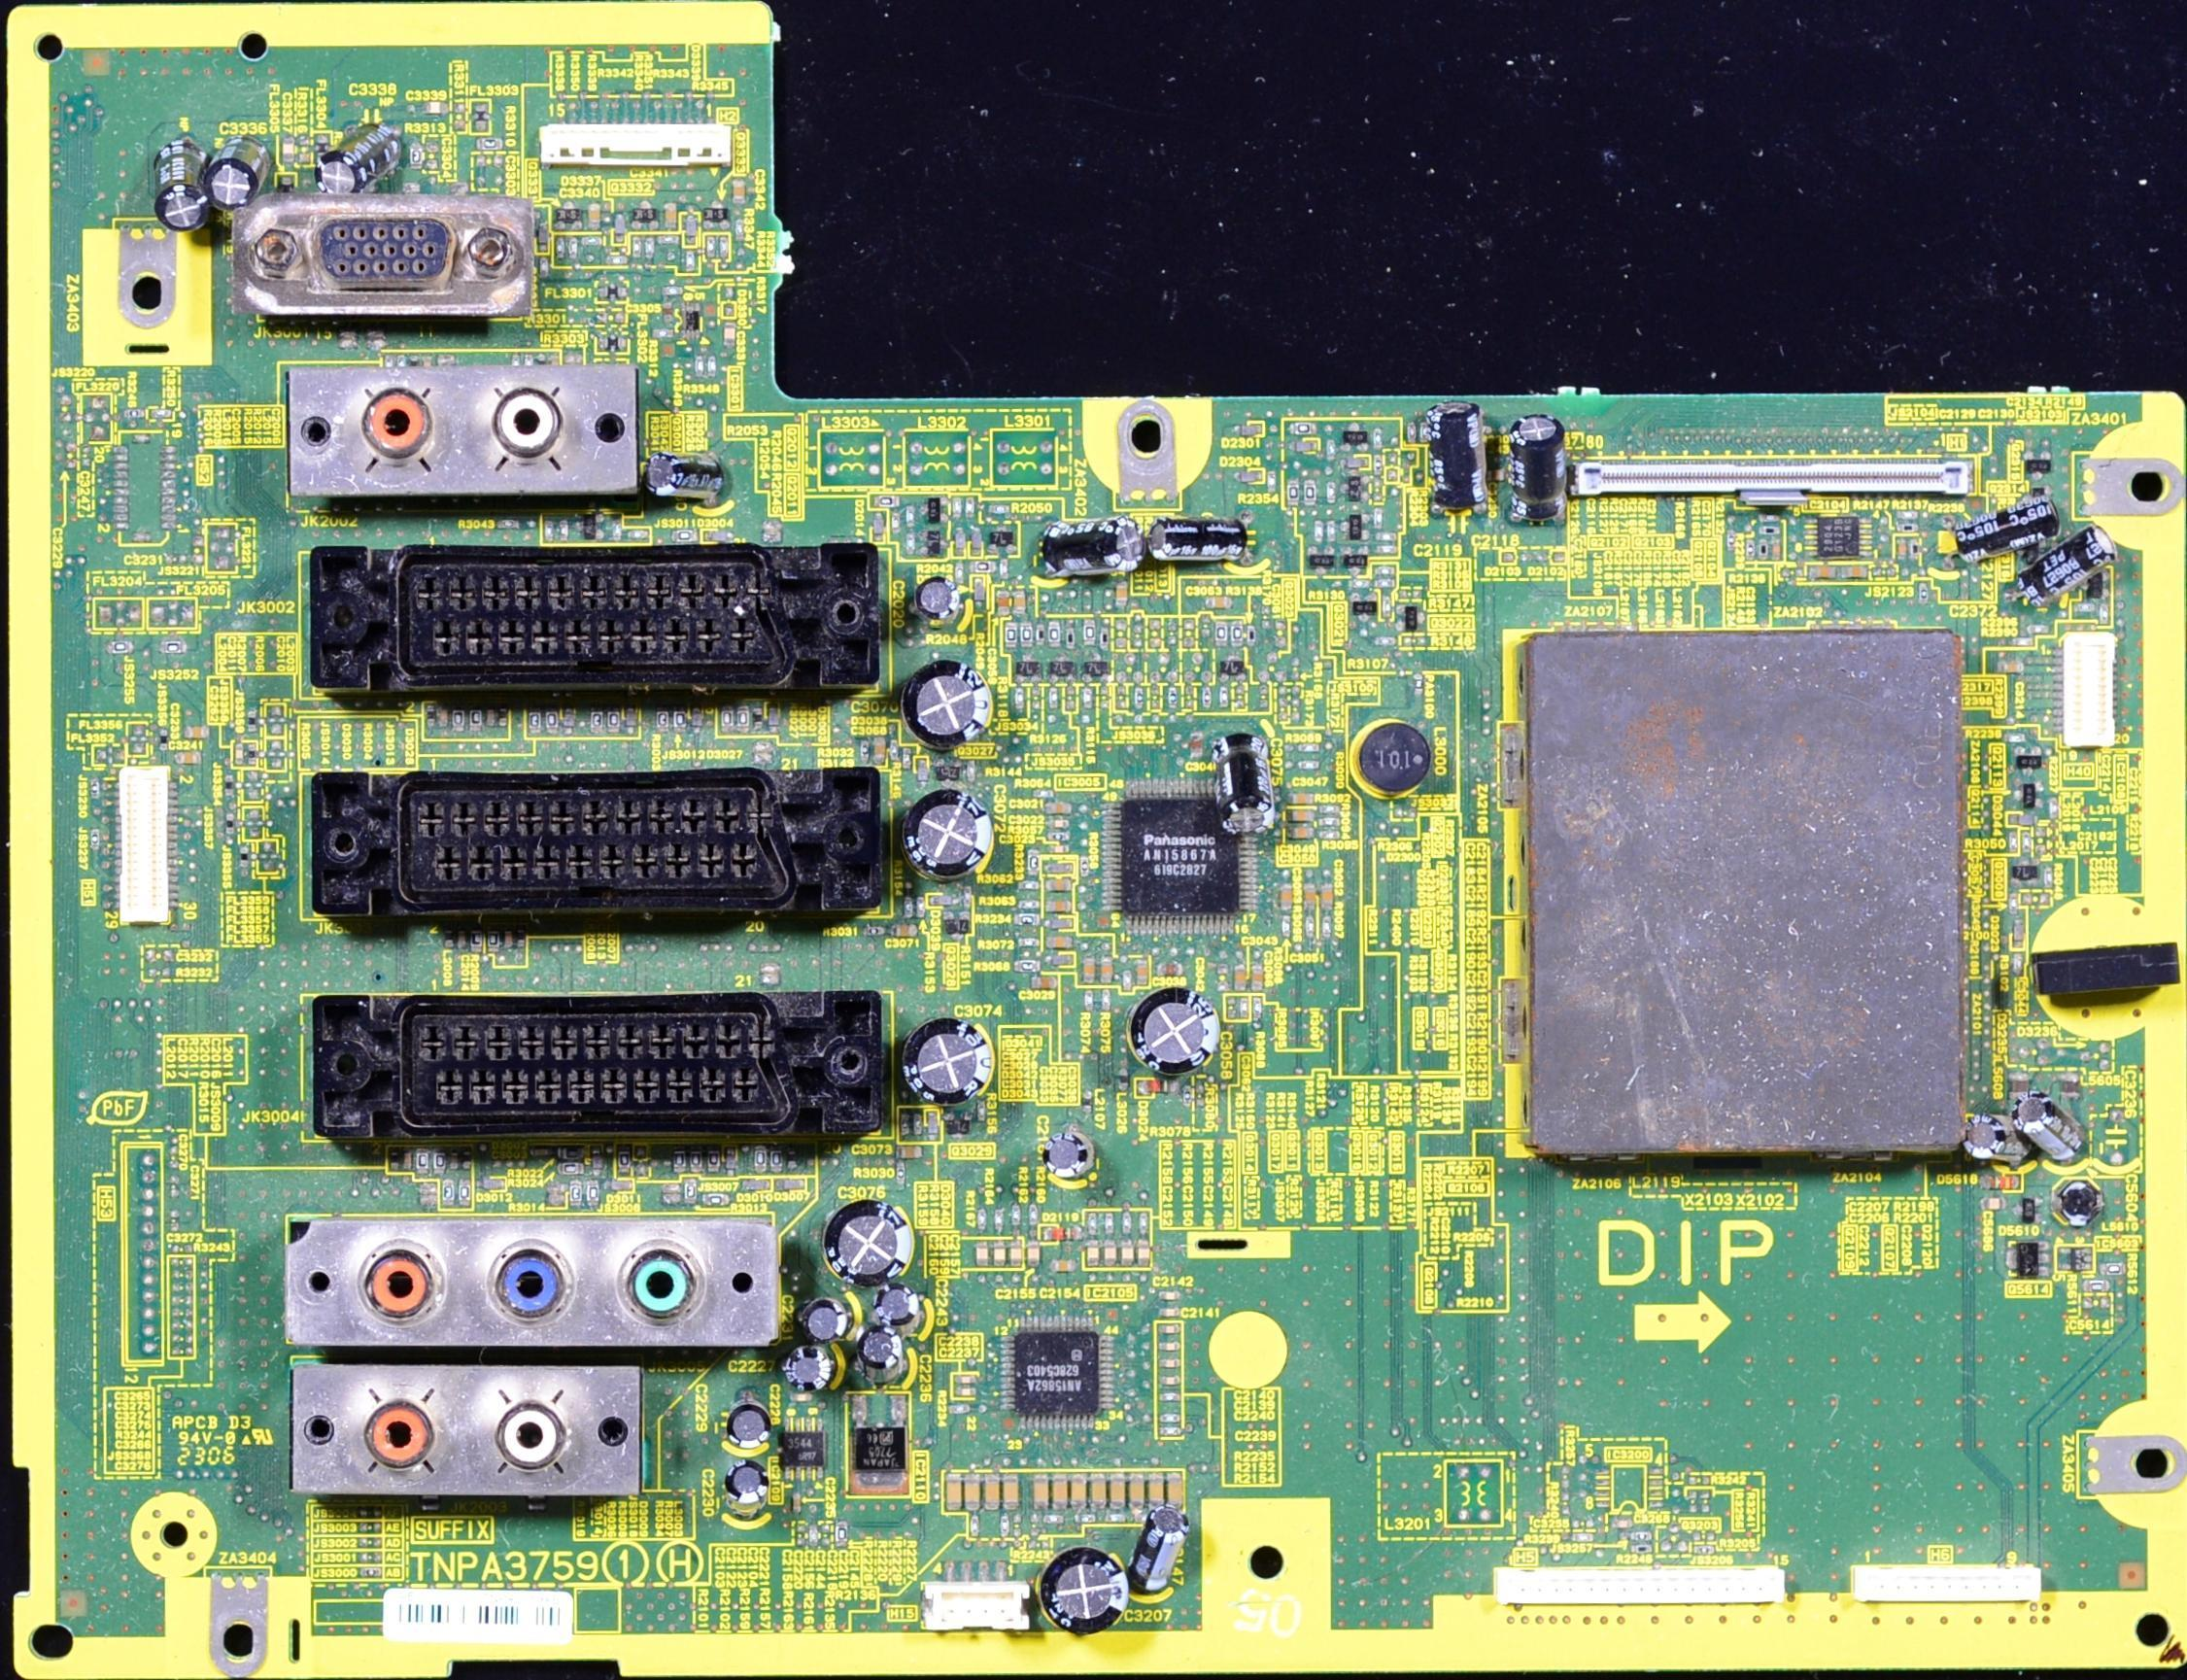Capacitor: (1035, 1537, 1132, 1638), (908, 1027, 999, 1130), (816, 1197, 914, 1279), (1512, 422, 1587, 526), (914, 786, 983, 896), (1418, 414, 1491, 513), (2021, 527, 2110, 608), (1951, 484, 2052, 557), (1213, 727, 1280, 831), (1153, 507, 1255, 574), (1035, 515, 1145, 577), (639, 447, 736, 506), (151, 142, 216, 225), (921, 681, 996, 754), (2013, 1092, 2092, 1157), (1134, 1505, 1189, 1599), (1965, 1108, 2032, 1167), (325, 128, 383, 194), (856, 1320, 908, 1376), (210, 135, 255, 198), (721, 1398, 770, 1451), (1047, 1131, 1100, 1180), (788, 1342, 835, 1393), (717, 1459, 772, 1501), (800, 1298, 846, 1343), (871, 1285, 915, 1320), (863, 1410, 887, 1445), (1106, 1477, 1132, 1509), (1166, 1474, 1186, 1512), (1275, 883, 1301, 912), (964, 1476, 982, 1512), (1127, 1474, 1146, 1509), (1004, 1472, 1021, 1511), (1033, 1474, 1051, 1513), (1806, 563, 1842, 582), (1288, 789, 1318, 809), (1027, 974, 1063, 992), (983, 1478, 1002, 1511), (1146, 1476, 1167, 1506), (1088, 1479, 1110, 1508), (1317, 877, 1333, 915), (1301, 881, 1319, 914), (1133, 957, 1152, 987), (974, 1239, 992, 1271), (1285, 808, 1320, 825), (1981, 1195, 2008, 1214), (1893, 535, 1911, 564), (1023, 1240, 1041, 1271), (1111, 581, 1129, 611), (1207, 594, 1235, 611), (1079, 955, 1097, 982), (1053, 1481, 1074, 1504), (1246, 968, 1265, 991), (899, 1145, 930, 1161), (947, 1478, 961, 1511), (1047, 876, 1075, 895), (992, 1240, 1008, 1269), (1086, 1242, 1102, 1271), (1291, 825, 1316, 841), (1073, 1476, 1087, 1505), (1843, 565, 1869, 580), (994, 586, 1011, 613), (1232, 963, 1246, 991), (1105, 1241, 1118, 1268), (1012, 586, 1026, 614), (1046, 901, 1074, 914), (1009, 1240, 1022, 1267), (1045, 935, 1076, 948), (1100, 957, 1113, 985), (1136, 1242, 1151, 1264), (1121, 1244, 1134, 1267)
Connector: (106, 757, 182, 920), (912, 1581, 1031, 1636)
IC: (1100, 782, 1254, 937), (996, 1320, 1112, 1429), (851, 1400, 906, 1481), (1799, 511, 1876, 562), (775, 1416, 826, 1483), (2055, 1244, 2095, 1276)
Resistor: (992, 1207, 1008, 1240), (413, 1146, 429, 1177), (1304, 478, 1318, 508), (434, 1148, 448, 1179), (559, 1160, 587, 1176), (1009, 1202, 1025, 1229), (568, 1181, 585, 1205), (835, 1521, 852, 1546), (1283, 479, 1302, 505), (1289, 420, 1318, 434), (2078, 1279, 2105, 1294), (440, 1180, 456, 1205), (471, 930, 487, 953), (586, 1179, 598, 1207), (976, 1206, 990, 1233), (2102, 1260, 2127, 1275), (808, 1526, 823, 1546), (457, 1178, 469, 1204), (619, 1149, 632, 1174), (1025, 1202, 1038, 1225), (1265, 471, 1277, 492), (488, 929, 497, 952)
Transistor: (2005, 1237, 2052, 1284), (2003, 854, 2052, 897), (1043, 647, 1081, 687), (2011, 743, 2050, 780), (2013, 777, 2045, 815), (1305, 543, 1339, 581), (914, 526, 952, 558), (921, 485, 951, 526), (940, 1109, 975, 1142), (1342, 509, 1376, 545), (1393, 604, 1429, 637), (941, 908, 974, 943), (1079, 653, 1112, 687), (986, 525, 1018, 560), (1350, 589, 1382, 625), (1009, 654, 1046, 684), (2013, 1194, 2046, 1226), (1342, 546, 1372, 578), (1342, 423, 1377, 452), (1222, 652, 1248, 684), (1336, 474, 1385, 488)
